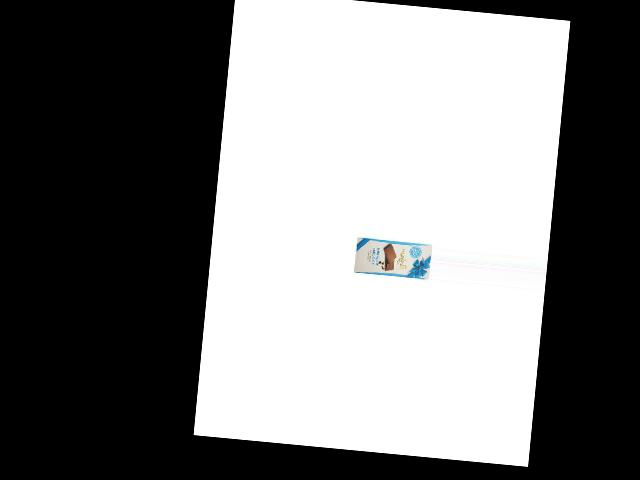chocolate: (351, 234, 433, 284)
